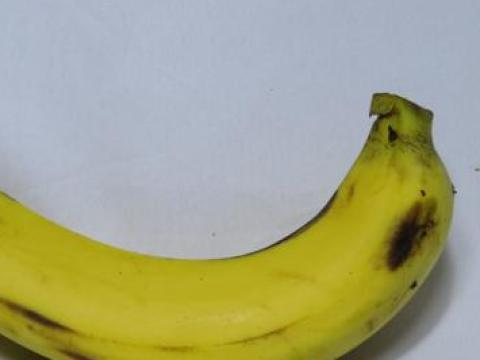freshripe: (0, 79, 463, 359)
